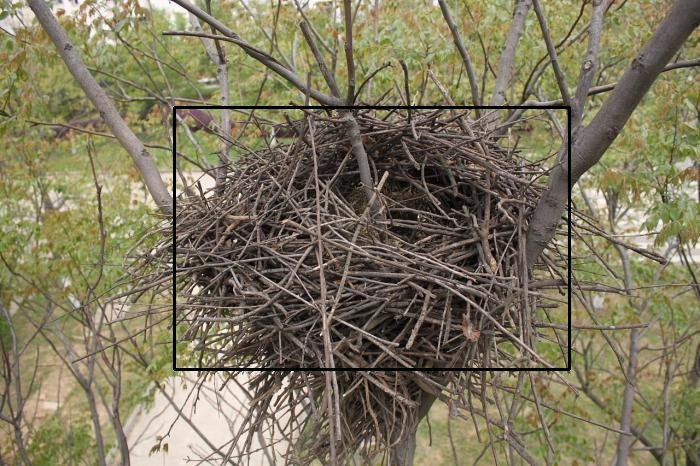bird-nest: (151, 99, 566, 419)
